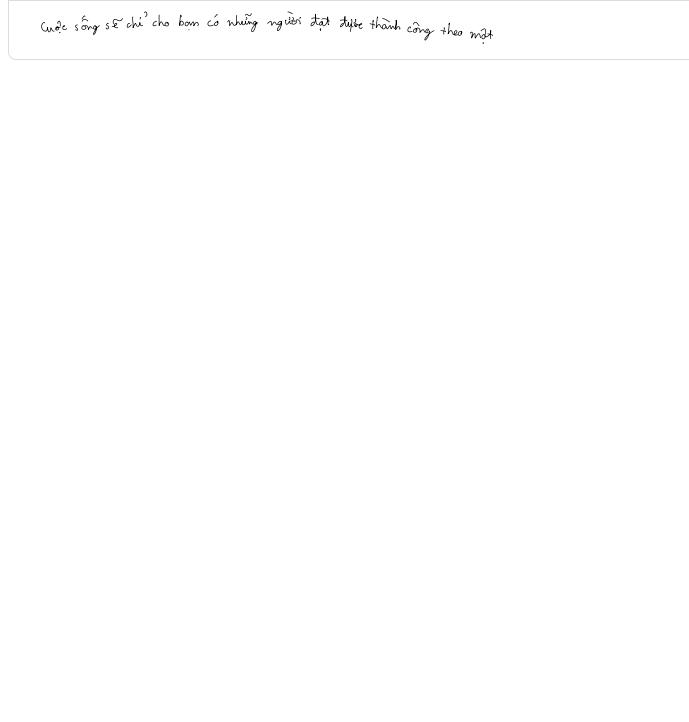text: (37, 8, 496, 48)
